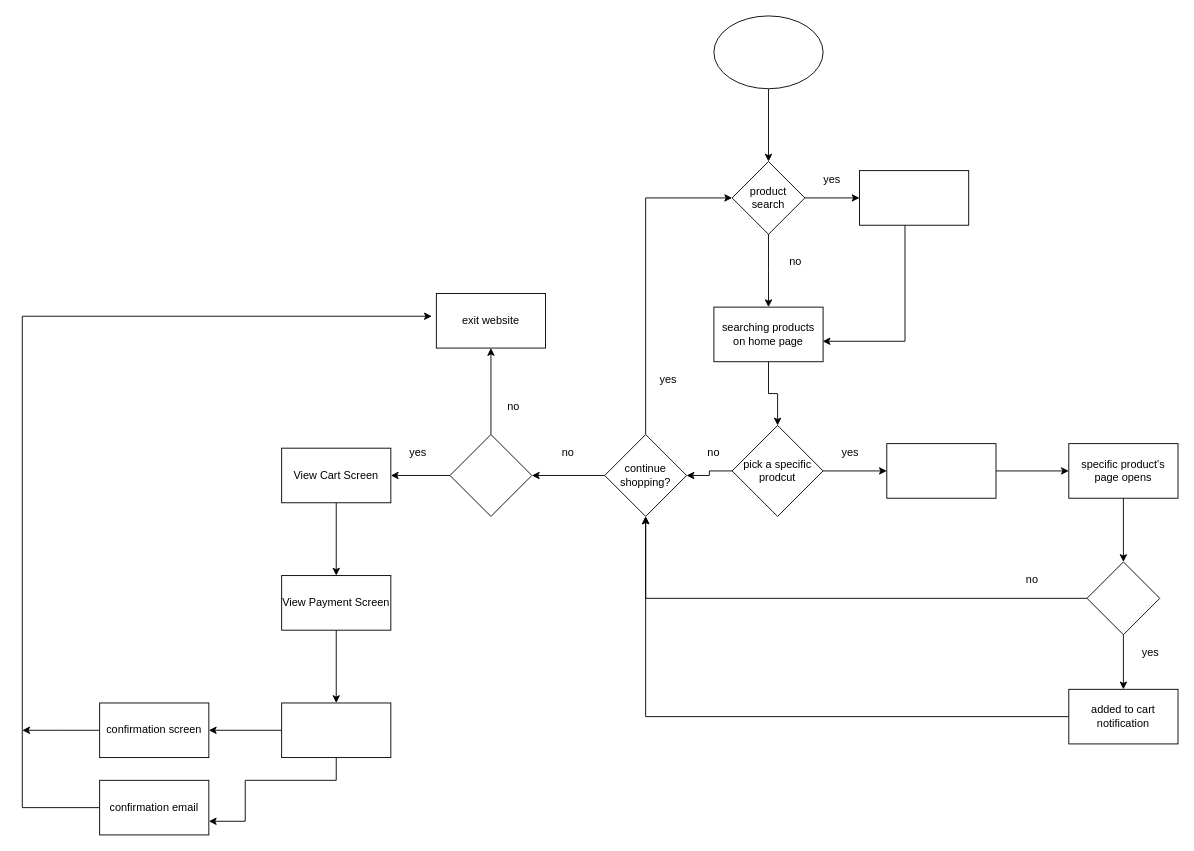
Image size: 1194x851. Some labels were removed from this diagram. Here are the shapes that lost their labels. From the top down, the box of each, then its label:
(713, 15, 823, 89): user enters website
(859, 170, 969, 225): provide website input for product
(449, 434, 532, 516): checkout?
(886, 443, 996, 498): picked a specific product
(1086, 561, 1160, 635): add item to cart
(281, 702, 391, 758): give payment info
